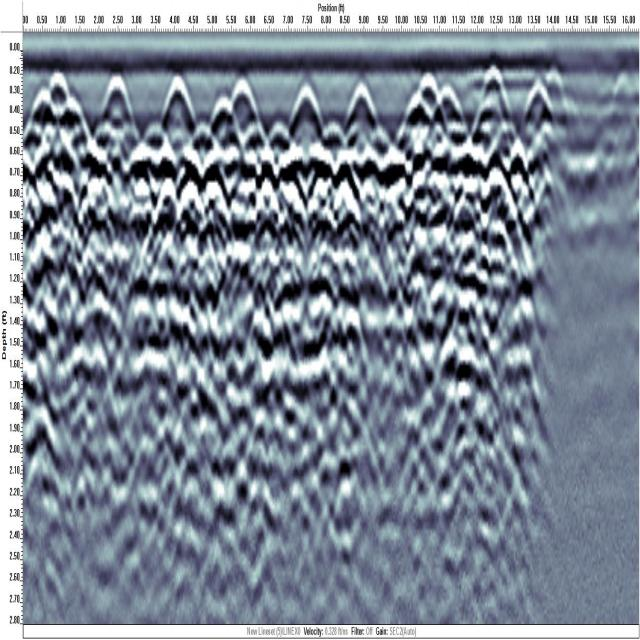hyperbola: (281, 76, 331, 144), (158, 65, 202, 139), (98, 72, 142, 134), (340, 72, 380, 136)
